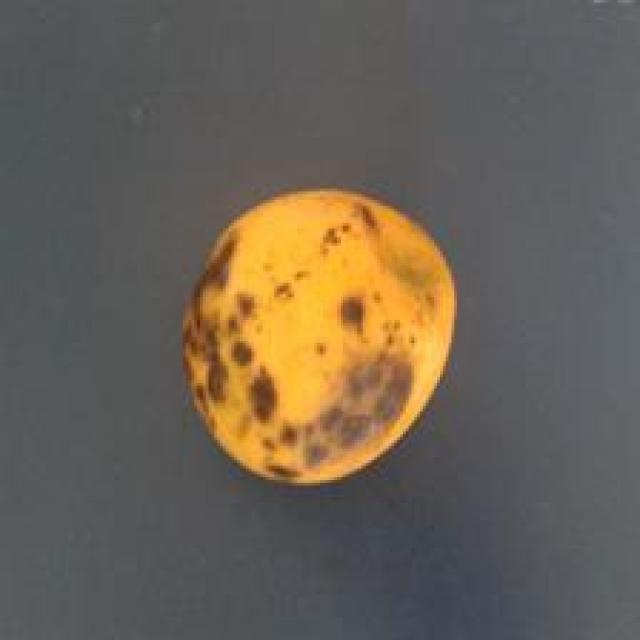black spot: (178, 191, 458, 487)
